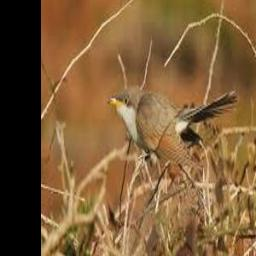Cuckoo: (106, 88, 236, 164)
